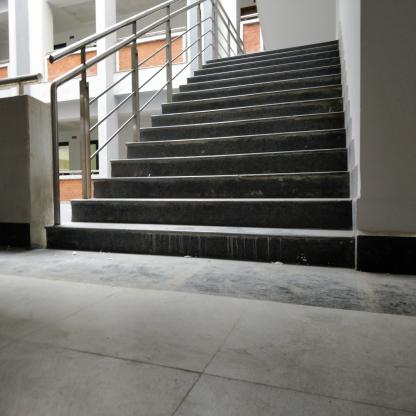stairs: (207, 59, 341, 275)
